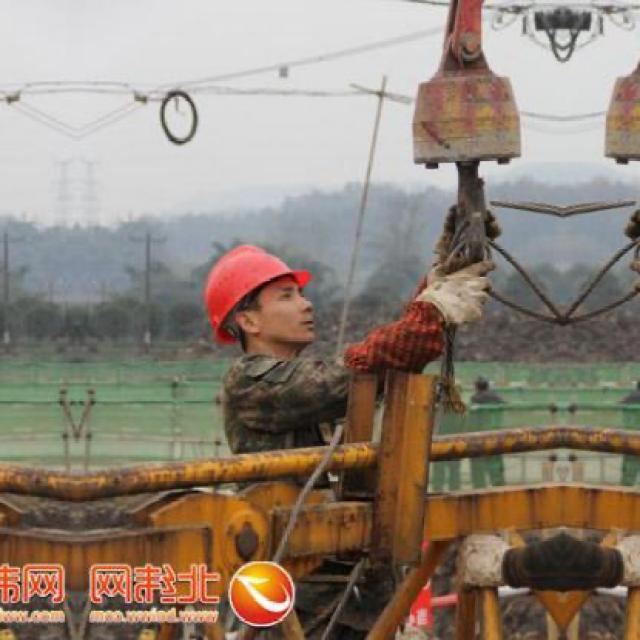helmet: (183, 230, 321, 368)
